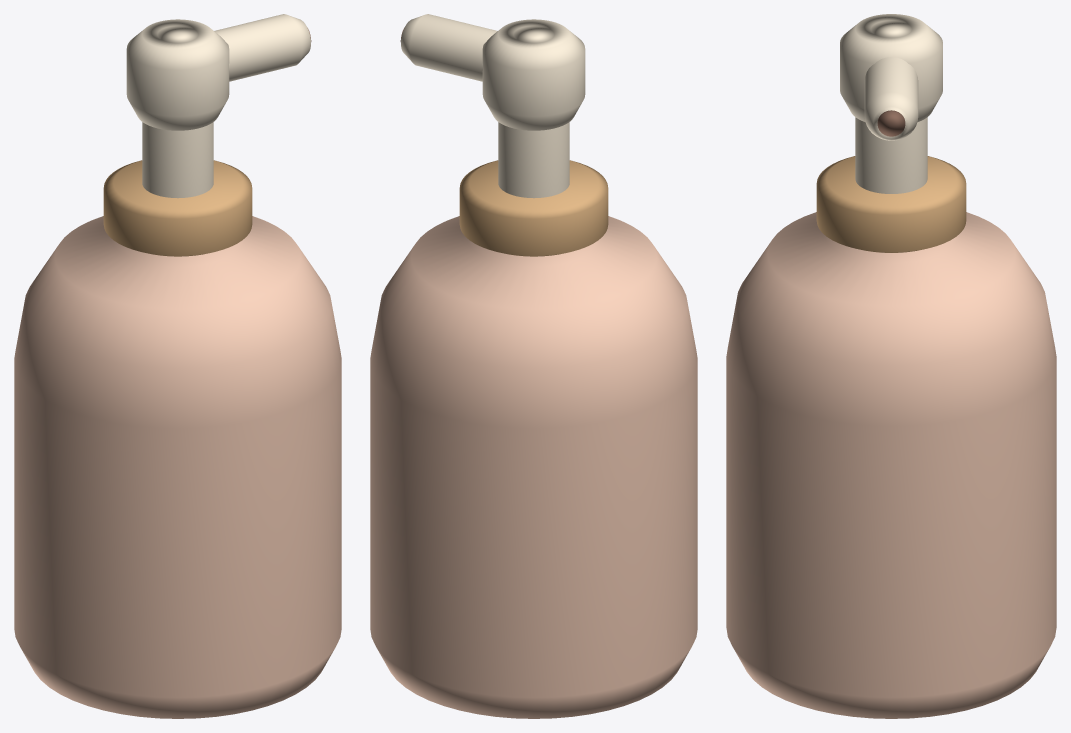
Rendered from spray.glb.
The picture shows the model from 3 angles, left to right: view 1: azimuth 30°, elevation 25°; view 2: azimuth 150°, elevation 25°; view 3: azimuth 270°, elevation 25°; orthographic projection.
Visible parts, largest first — view 1: Cosmetic Spray Bottle; view 2: Cosmetic Spray Bottle; view 3: Cosmetic Spray Bottle.
Boxes of the visible parts, x1,y1,x2,y2 form: Cosmetic Spray Bottle: [14, 14, 341, 718]; Cosmetic Spray Bottle: [370, 14, 697, 718]; Cosmetic Spray Bottle: [726, 14, 1056, 718].
Bounding box in the file's own units: 0.64 × 1.36 × 0.64.
